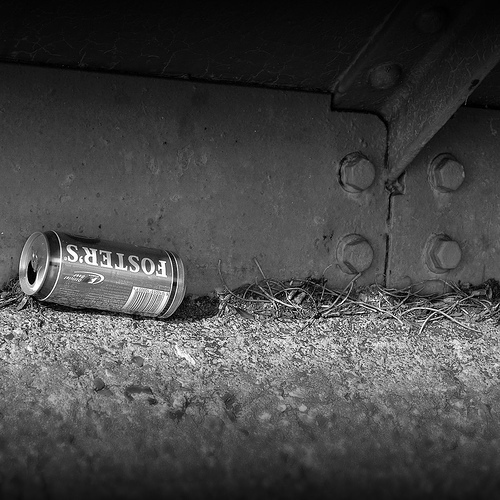litter: (17, 227, 188, 315)
